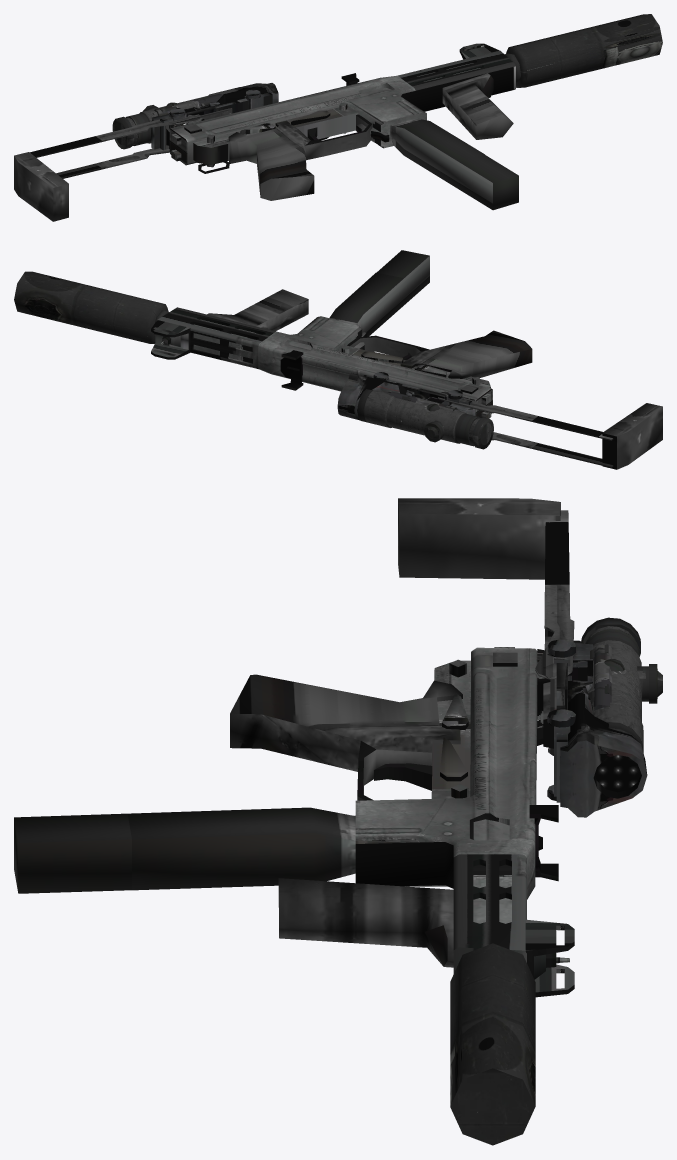
File: t5_weapon_spectre_world.glb
3 renders of one model, top to bottom at view 1: azimuth 30°, elevation 25°; view 2: azimuth 150°, elevation 25°; view 3: azimuth 270°, elevation 25°, orthographic. The views are drawn at different scales.
Parts seen in each view (by area): view 1: t5_weapon_spectre_world; view 2: t5_weapon_spectre_world; view 3: t5_weapon_spectre_world.
Boxes of the visible parts, bbox=[...] form: t5_weapon_spectre_world: bbox=[14, 14, 662, 221]; t5_weapon_spectre_world: bbox=[14, 250, 662, 469]; t5_weapon_spectre_world: bbox=[14, 498, 662, 1145].
Bounding box in the file's own units: 0.7476 × 0.0497 × 0.3559.
Materials: 8 (8 with a texture image).
